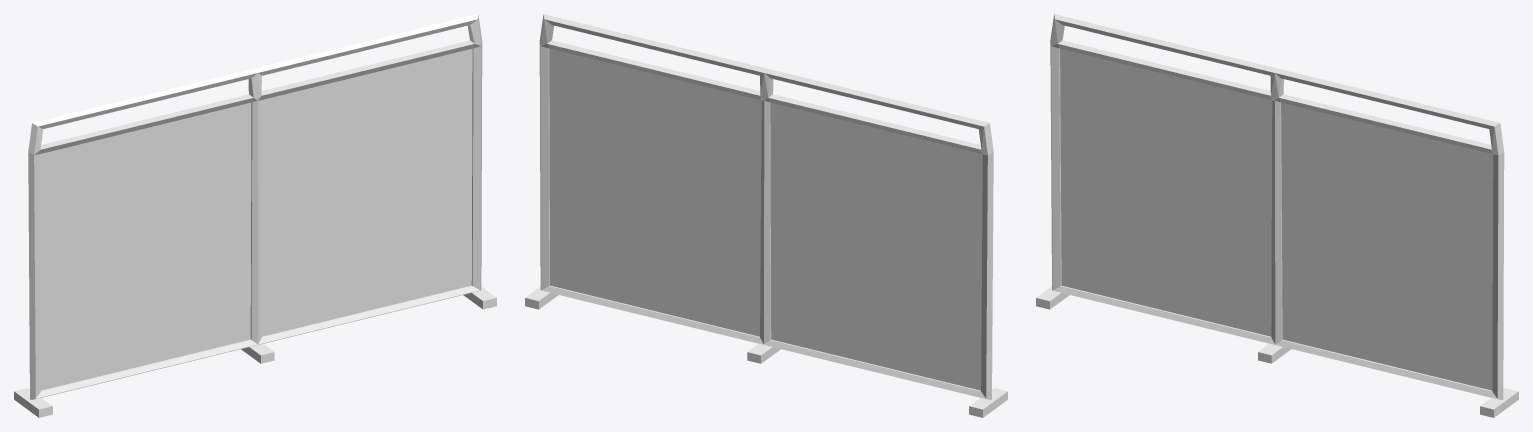
The model's file is SM_Prop_Fence_Wire_01.glb.
The picture shows the model from 3 angles, left to right: view 1: azimuth 30°, elevation 25°; view 2: azimuth 150°, elevation 25°; view 3: azimuth 330°, elevation 25°; orthographic projection.
Parts seen in each view (by area): view 1: SM_Prop_Fence_Wire_01; view 2: SM_Prop_Fence_Wire_01; view 3: SM_Prop_Fence_Wire_01.
Part boxes in pixels (x1,y1,x2,y2): SM_Prop_Fence_Wire_01: (14,14,496,417); SM_Prop_Fence_Wire_01: (525,14,1007,417); SM_Prop_Fence_Wire_01: (1036,14,1518,417).
Size of the model in its own units: 3.98 by 2.36 by 0.3759.
2 materials, 1 textured.
